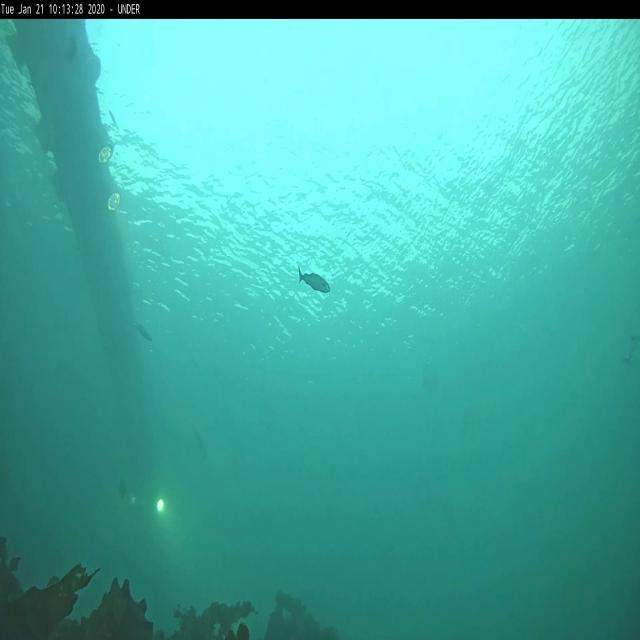fish: (298, 264, 330, 294), (134, 321, 152, 343), (108, 108, 119, 130)
